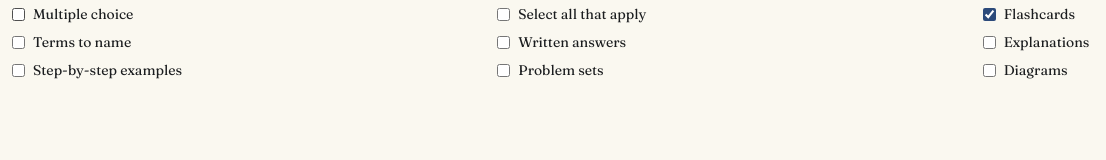
Test: MakeKindsField › asks for at least one when every box is unticked
Click the checkbox labelled "Flashcards".
click(989, 14)  # box [983, 8, 996, 20]
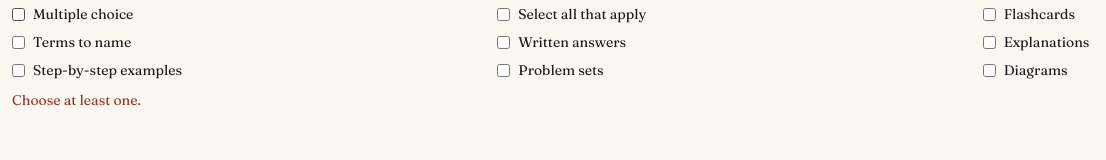
Expected: the text "Choose at least one." is shown, [12, 91, 141, 109]
